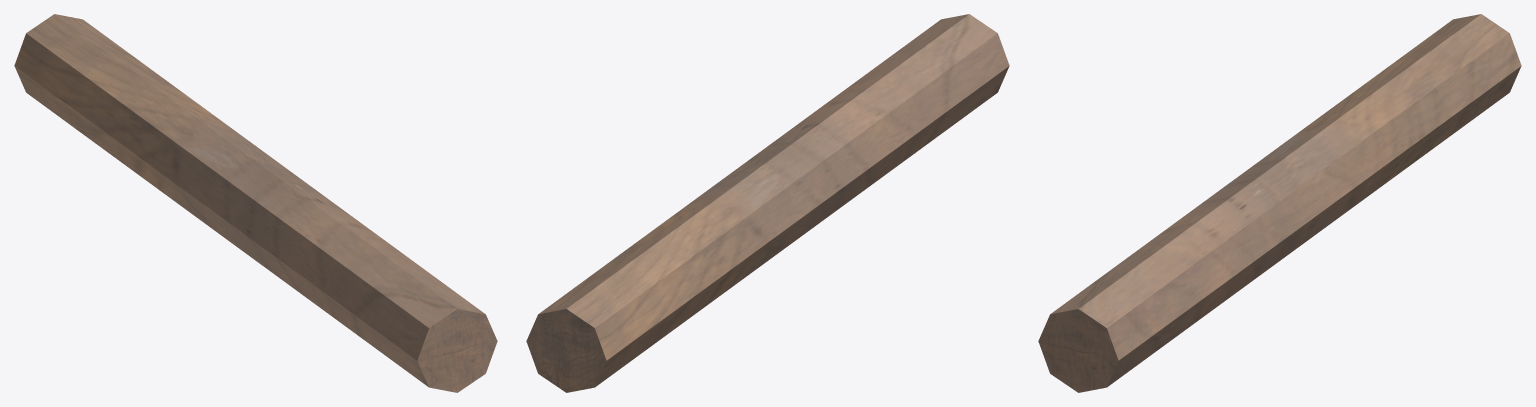
File: wood.fbx
3 renders of one model, left to right at view 1: azimuth 30°, elevation 25°; view 2: azimuth 150°, elevation 25°; view 3: azimuth 330°, elevation 25°, orthographic.
Visible parts, largest first — view 1: pCylinder1; view 2: pCylinder1; view 3: pCylinder1.
Part boxes in pixels (left/top/right/bottom): pCylinder1: left=14, top=14, right=497, bottom=392; pCylinder1: left=526, top=14, right=1009, bottom=392; pCylinder1: left=1038, top=14, right=1521, bottom=392.
Size of the model in its own units: 29.9 by 29.9 by 260.
1 material, 1 textured.
